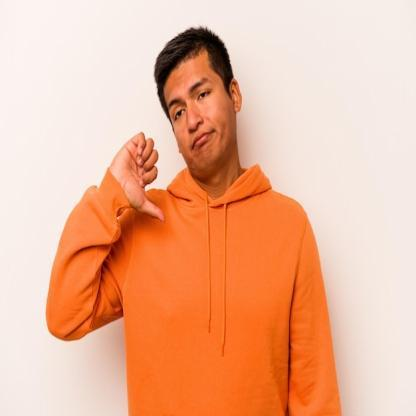thumb_down: (108, 128, 168, 228)
